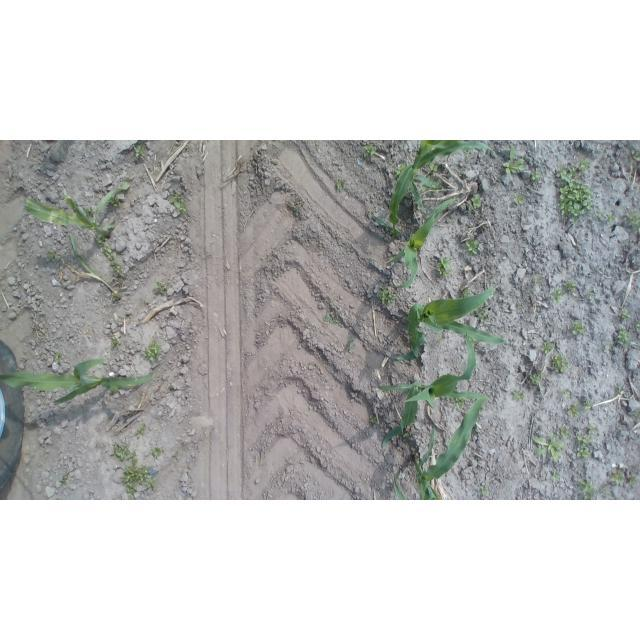Maize: (374, 330, 495, 450), (372, 140, 496, 236), (390, 398, 489, 500), (401, 283, 509, 357), (19, 177, 137, 244), (0, 355, 158, 405), (387, 195, 458, 289)
Weeds: (553, 162, 594, 223), (120, 460, 158, 499), (529, 433, 563, 463), (103, 242, 125, 275), (502, 150, 529, 175), (573, 478, 599, 500), (574, 429, 592, 460), (139, 338, 161, 363), (375, 284, 398, 304), (110, 442, 135, 460), (625, 207, 640, 233), (170, 194, 189, 214), (615, 326, 634, 346), (609, 468, 627, 489), (361, 144, 379, 164), (551, 353, 569, 373), (436, 257, 453, 278), (322, 310, 342, 327), (110, 333, 126, 353), (462, 237, 478, 256), (570, 320, 586, 337), (133, 423, 149, 439), (469, 194, 483, 212), (563, 278, 578, 294), (475, 308, 489, 325), (510, 389, 527, 403), (451, 397, 468, 411), (549, 288, 563, 305), (56, 472, 70, 488), (156, 281, 170, 297), (149, 444, 164, 458), (557, 426, 571, 441), (561, 388, 575, 403), (614, 383, 628, 398), (619, 309, 633, 324), (132, 147, 148, 160), (512, 192, 528, 204), (479, 483, 492, 497), (109, 196, 123, 209), (570, 405, 583, 419), (168, 381, 180, 396), (531, 168, 542, 184), (582, 400, 595, 413), (599, 483, 611, 497), (45, 249, 57, 263), (334, 178, 346, 191), (428, 162, 441, 174), (550, 470, 562, 482), (540, 342, 552, 354), (605, 213, 617, 225), (53, 351, 65, 362), (532, 374, 543, 386), (629, 150, 640, 162), (588, 288, 597, 302), (344, 336, 354, 348), (587, 425, 598, 435), (291, 202, 302, 212), (627, 475, 638, 485), (634, 318, 640, 334), (595, 210, 603, 219), (370, 417, 378, 424)
